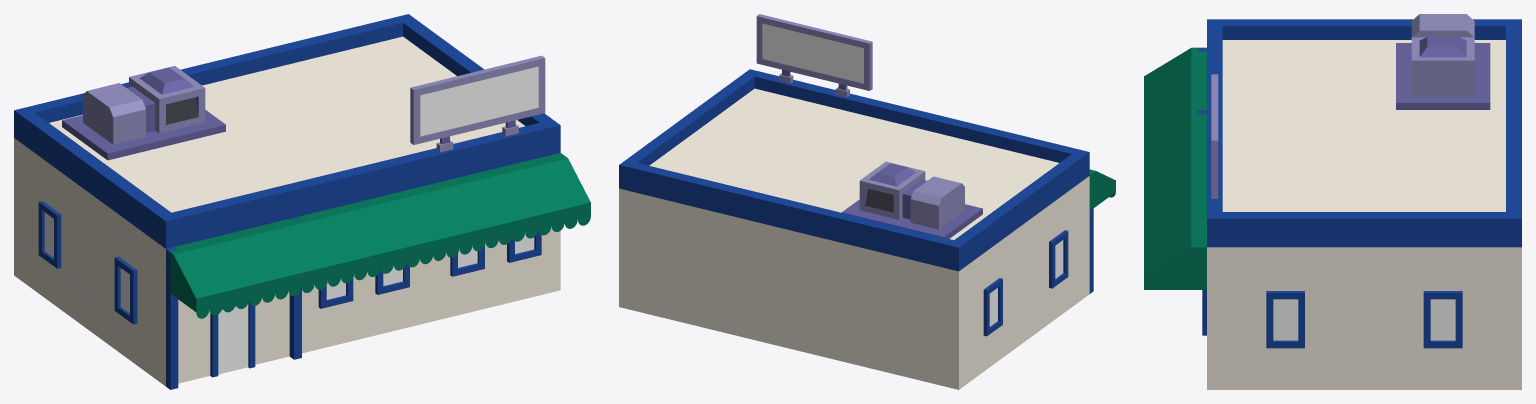
Rendered from M1_Shop01.fbx.
The picture shows the model from 3 angles, left to right: view 1: azimuth 30°, elevation 25°; view 2: azimuth 150°, elevation 25°; view 3: azimuth 270°, elevation 25°; orthographic projection. The views are drawn at different scales.
Parts seen in each view (by area): view 1: mergedBlocks; view 2: mergedBlocks; view 3: mergedBlocks.
Part boxes in pixels (x1,y1,x2,y2): mergedBlocks: (14,14,590,389); mergedBlocks: (619,14,1115,389); mergedBlocks: (1144,14,1521,389).
Size of the model in its own units: 30.6 by 17 by 24.
